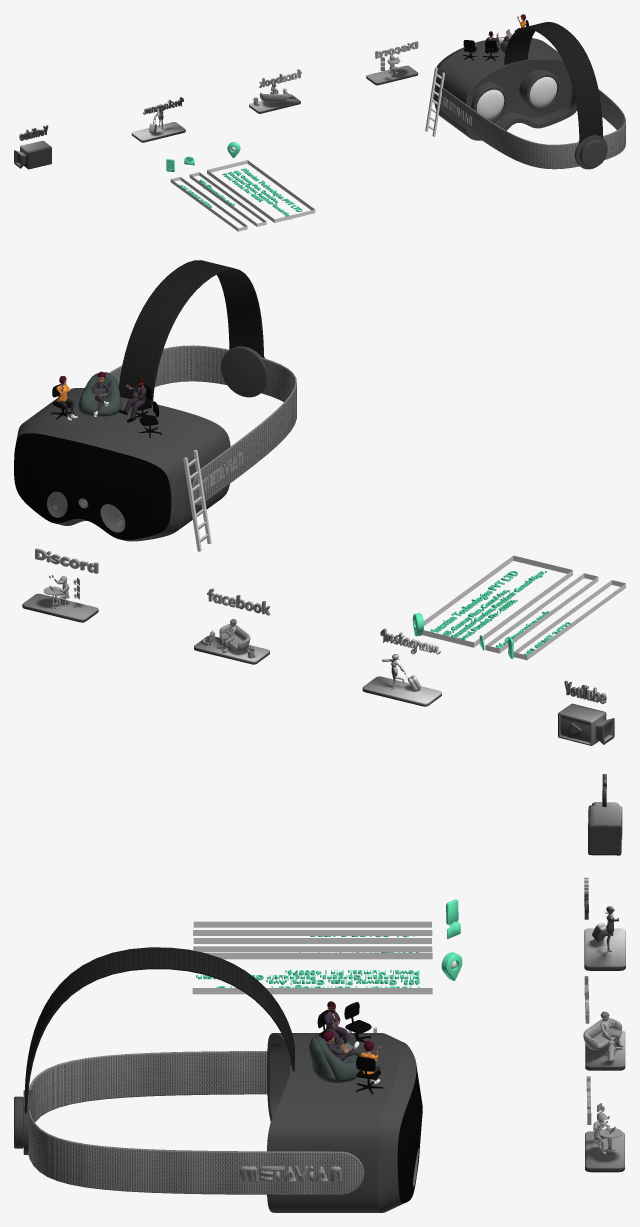
File: contact_model_11_11_25.glb
3 renders of one model, top to bottom at view 1: azimuth 30°, elevation 25°; view 2: azimuth 150°, elevation 25°; view 3: azimuth 270°, elevation 25°, orthographic. The views are drawn at different scales.
Parts seen in each view (by area): view 1: Cube.009, Cube.012, Cube.013, Cube.014, Facebook, Youtube, Discord, Instagram, address_letters, Cube.015, highlighter_address.001, highlighter_address.002; view 2: Cube.009, Cube.013, Cube.012, Cube.010, Cube.001, Youtube, Facebook, Discord, Instagram, address_letters, ojo_der.001, Cube.015 (+5 smaller); view 3: Cube.012, Cube.009, Cube.013, Facebook, Instagram, Discord, ojo_der.001, address_letters, Youtube, highlighter_phone.001, highlighter_email.002, highlighter_address.002 (+8 smaller).
Part boxes in pixels (box(x1,y1,x2,y2)): Cube.009: box(433, 37, 607, 169); Cube.012: box(437, 88, 625, 169); Cube.013: box(504, 22, 603, 143); Cube.014: box(477, 77, 557, 119); Facebook: box(249, 69, 301, 113); Youtube: box(14, 125, 51, 169); Discord: box(366, 41, 418, 85); Instagram: box(131, 97, 185, 142); address_letters: box(222, 168, 302, 219); Cube.015: box(425, 67, 444, 136); highlighter_address.001: box(207, 170, 315, 222); highlighter_address.002: box(207, 160, 314, 210); Cube.009: box(16, 346, 267, 541); Cube.013: box(119, 260, 263, 404); Cube.012: box(109, 345, 296, 505); Cube.010: box(14, 453, 171, 539); Cube.001: box(14, 433, 170, 490); Youtube: box(558, 681, 614, 745); Facebook: box(194, 588, 270, 664); Discord: box(22, 548, 98, 622); Instagram: box(362, 628, 441, 706); address_letters: box(429, 570, 546, 639); ojo_der.001: box(78, 371, 121, 416); Cube.015: box(183, 450, 211, 551); Cube.012: box(28, 1051, 364, 1194); Cube.009: box(14, 1033, 416, 1212); Cube.013: box(24, 947, 294, 1113); Facebook: box(583, 976, 625, 1070); Instagram: box(584, 877, 625, 970); Discord: box(585, 1076, 624, 1172); ojo_der.001: box(309, 1031, 360, 1082); address_letters: box(196, 969, 419, 987); Youtube: box(588, 774, 622, 855); highlighter_phone.001: box(193, 921, 431, 927); highlighter_email.002: box(193, 946, 432, 952); highlighter_address.002: box(205, 953, 432, 959).
Size of what is drawn, in the model's own units: 175 by 47.77 by 111.
44 materials, 6 textured.
